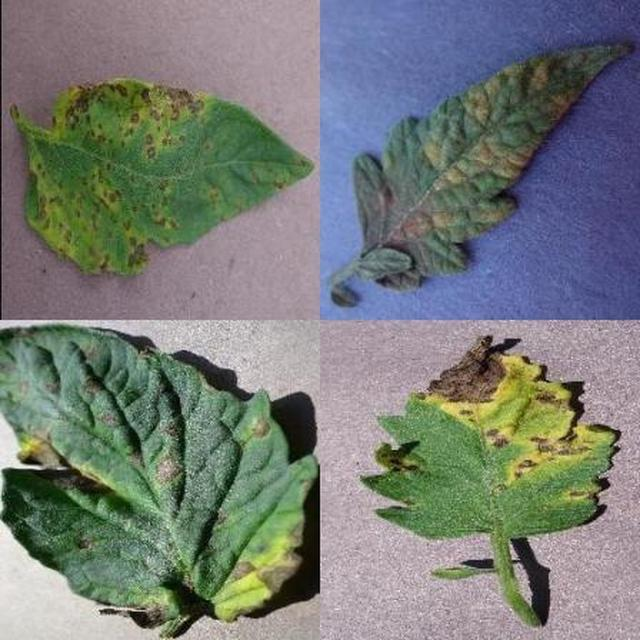Septoria Leaf: (228, 236, 640, 640)
